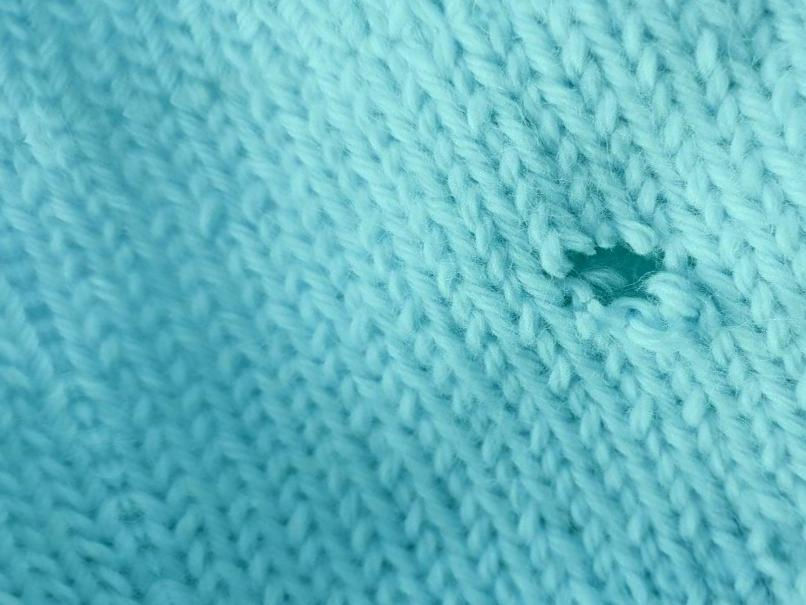hole: (546, 232, 679, 324)
